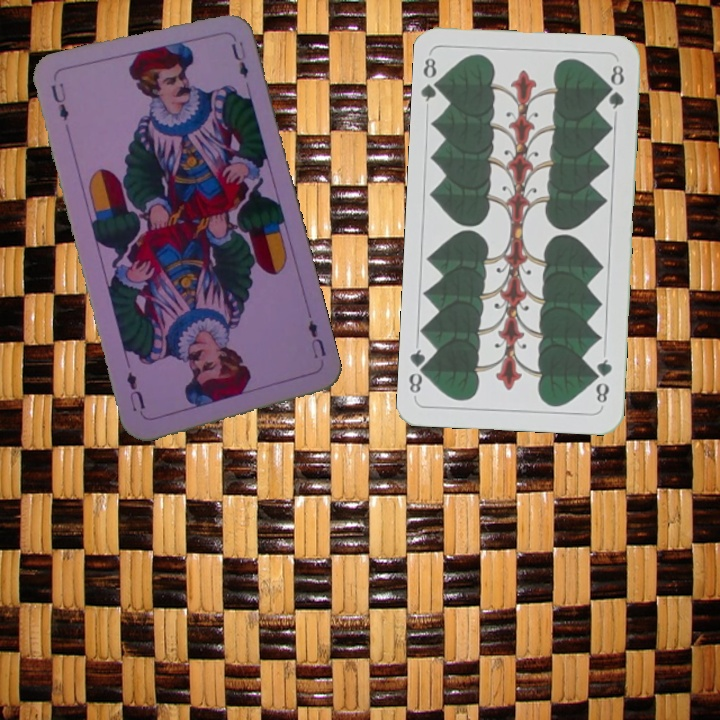EU: (304, 316, 329, 361), (47, 78, 72, 123)
G8: (418, 54, 446, 104), (590, 355, 615, 409)
